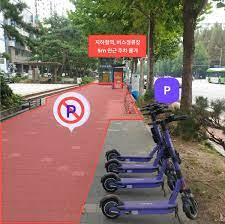kick_body: (121, 200, 173, 213), (123, 177, 161, 187), (123, 163, 157, 172), (122, 155, 151, 161)
kick_wheel: (99, 195, 122, 218), (181, 195, 198, 218), (102, 173, 118, 192), (105, 160, 119, 172)
